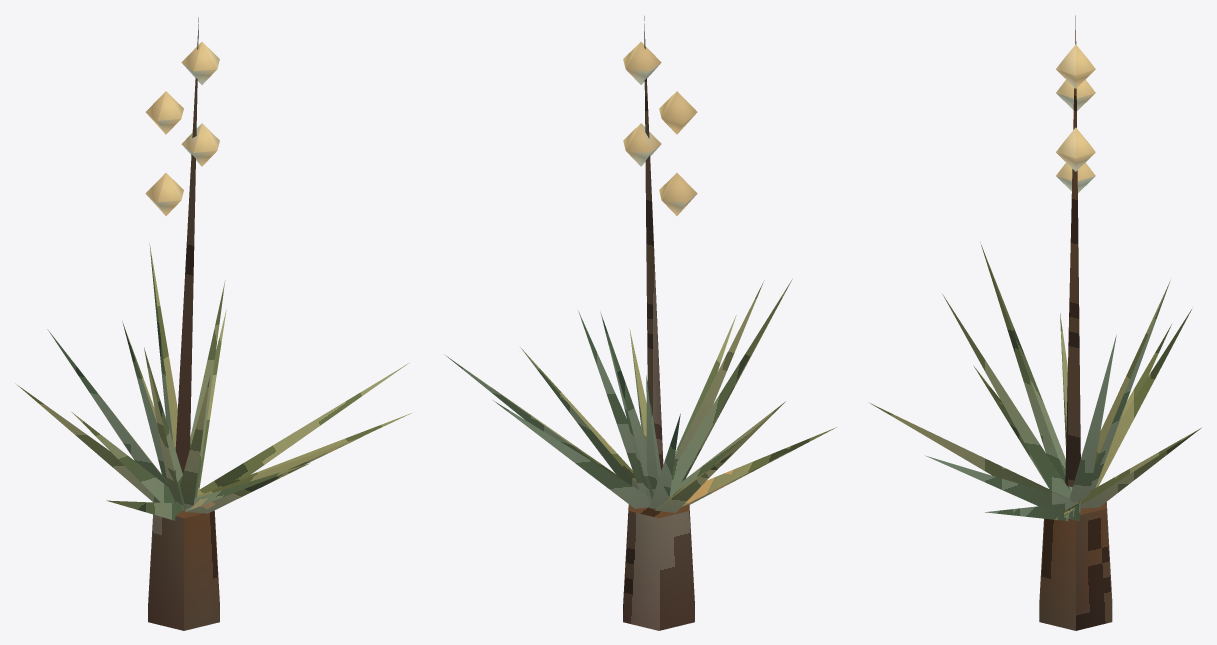
Rendered from wland.yucca.glb.
The picture shows the model from 3 angles, left to right: view 1: azimuth 30°, elevation 25°; view 2: azimuth 150°, elevation 25°; view 3: azimuth 270°, elevation 25°; orthographic projection.
Parts seen in each view (by area): view 1: kit_leaves, kit_trunk, kit_blooms, kit_stalk; view 2: kit_leaves, kit_trunk, kit_blooms, kit_stalk; view 3: kit_leaves, kit_trunk, kit_stalk, kit_blooms.
Part boxes in pixels (left/top/right/bottom): kit_leaves: left=15, top=244, right=411, bottom=520; kit_trunk: left=148, top=510, right=219, bottom=630; kit_blooms: left=145, top=42, right=219, bottom=215; kit_stalk: left=175, top=17, right=198, bottom=473; kit_leaves: left=445, top=279, right=836, bottom=512; kit_trunk: left=623, top=504, right=694, bottom=630; kit_blooms: left=623, top=42, right=697, bottom=215; kit_stalk: left=644, top=16, right=663, bottom=470; kit_leaves: left=870, top=243, right=1200, bottom=521; kit_trunk: left=1039, top=502, right=1112, bottom=630; kit_stalk: left=1065, top=15, right=1080, bottom=487; kit_blooms: left=1056, top=44, right=1095, bottom=192.
Size of the model in its own units: 1.17 by 1.9 by 0.9535.
Materials: 3 (3 with a texture image).
